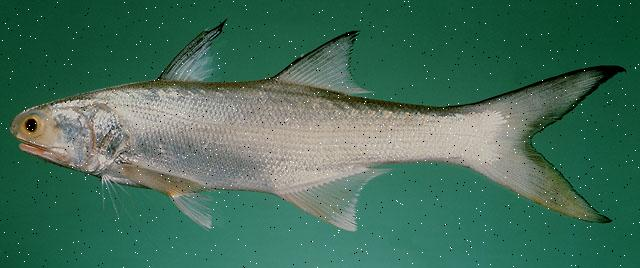Mulut: (0, 87, 76, 187)
Sirip Anal: (269, 159, 395, 237)
Sirip Dada: (107, 154, 217, 202)
Sirip Ekor: (450, 57, 634, 230)
Sirip Perut: (163, 186, 223, 238)
Sirip Punggung: (153, 11, 384, 109)
